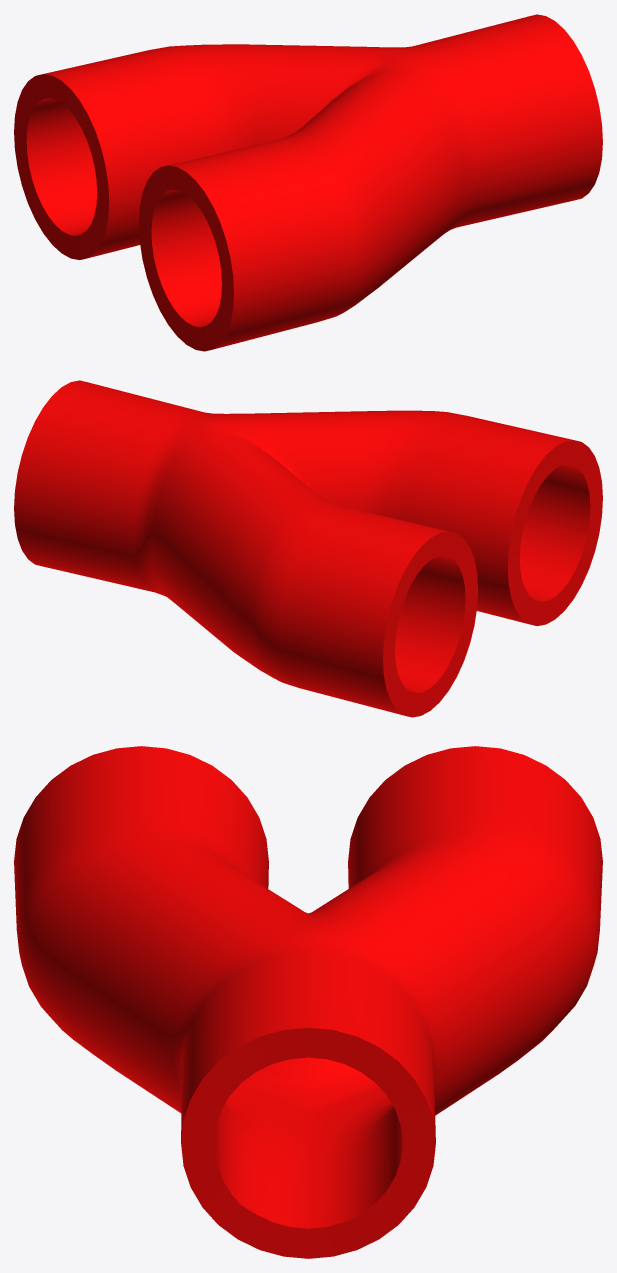
Rendered from Dungeon_Pipe_Ypipe.FBX.
The picture shows the model from 3 angles, top to bottom: view 1: azimuth 30°, elevation 25°; view 2: azimuth 150°, elevation 25°; view 3: azimuth 270°, elevation 25°; orthographic projection. The views are drawn at different scales.
Visible parts, largest first — view 1: ypipe; view 2: ypipe; view 3: ypipe.
Boxes of the visible parts, box(x1,y1,x2,y2) form: ypipe: box(14, 14, 602, 351); ypipe: box(14, 380, 602, 717); ypipe: box(14, 746, 602, 1258).
Size of the model in its own units: 39.42 by 15.13 by 34.84.
